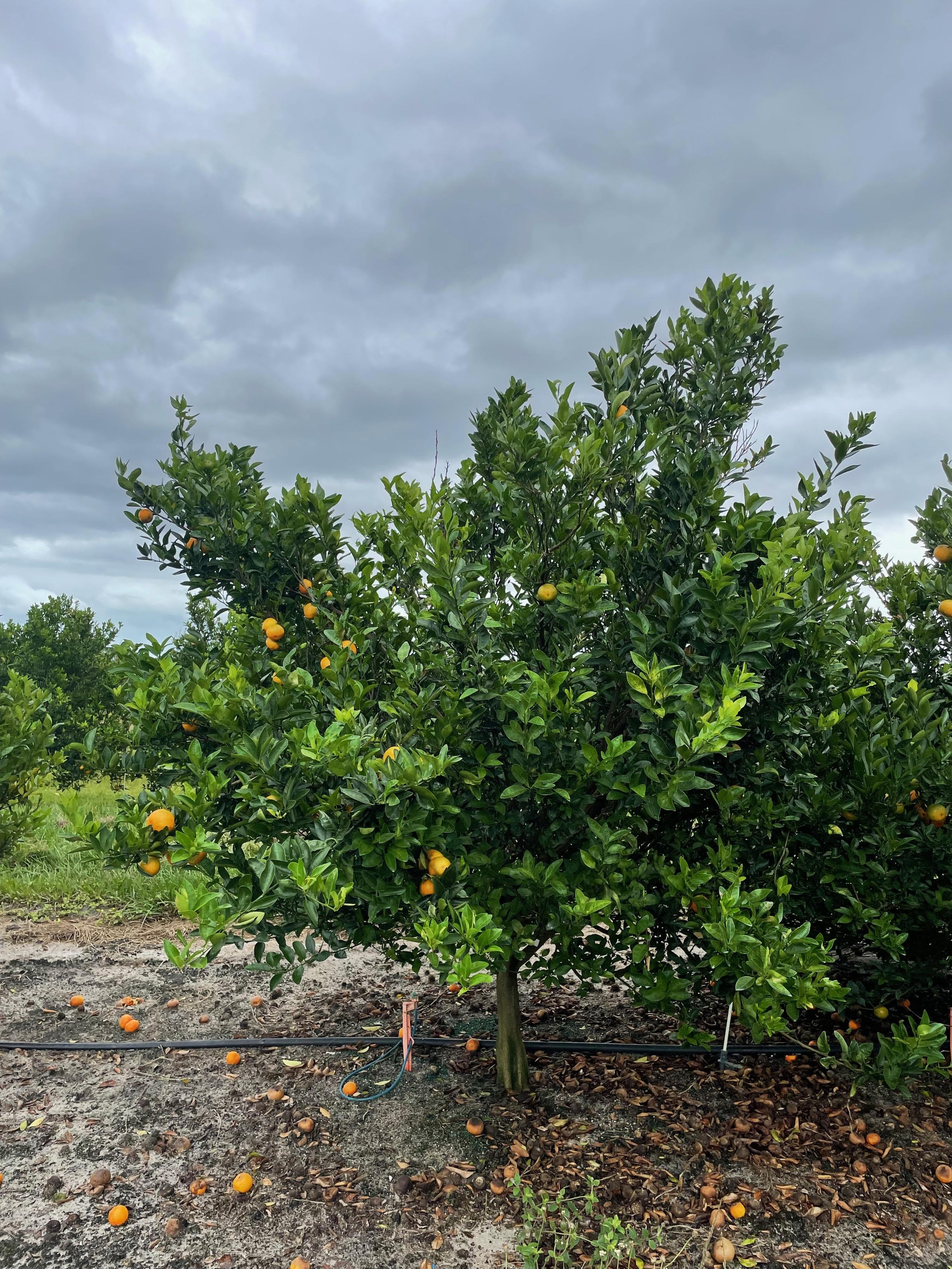fruit_on_ground: (144, 807, 177, 835), (380, 741, 410, 769), (426, 855, 454, 880), (534, 580, 561, 605), (415, 875, 441, 900), (164, 844, 190, 868), (839, 799, 864, 823), (138, 854, 163, 878), (419, 848, 446, 870), (185, 844, 210, 867), (334, 638, 359, 661), (923, 807, 947, 830), (687, 892, 711, 915), (925, 801, 948, 823), (179, 712, 201, 734), (931, 542, 952, 564), (609, 402, 631, 423), (317, 653, 338, 674), (265, 623, 286, 643), (936, 595, 952, 621), (726, 782, 746, 802), (182, 535, 202, 555), (301, 601, 321, 621), (270, 668, 290, 687), (296, 577, 316, 596), (136, 506, 156, 525), (260, 615, 279, 633), (198, 537, 216, 556), (872, 1003, 890, 1021), (264, 635, 283, 652), (320, 587, 336, 601)
fruit_on_tree: (710, 1236, 738, 1264), (230, 1171, 254, 1194), (707, 1207, 730, 1229), (107, 1204, 130, 1226), (464, 1115, 486, 1136), (89, 1166, 112, 1185), (933, 1161, 952, 1184), (726, 1200, 747, 1220), (287, 1253, 313, 1269), (488, 1177, 509, 1196), (340, 1078, 359, 1097), (699, 1183, 718, 1201), (848, 1127, 867, 1145), (188, 1177, 207, 1195), (297, 1115, 316, 1133), (501, 1163, 519, 1181), (463, 1036, 482, 1053), (845, 1016, 863, 1033), (864, 1129, 882, 1146), (224, 1049, 242, 1066), (124, 1017, 142, 1034), (852, 1116, 869, 1133), (267, 1085, 285, 1101), (896, 996, 913, 1012), (118, 1013, 134, 1030), (68, 992, 85, 1007), (249, 994, 265, 1008), (446, 981, 462, 994), (782, 1050, 798, 1063), (121, 995, 138, 1006), (165, 997, 180, 1009), (197, 1013, 210, 1024)
